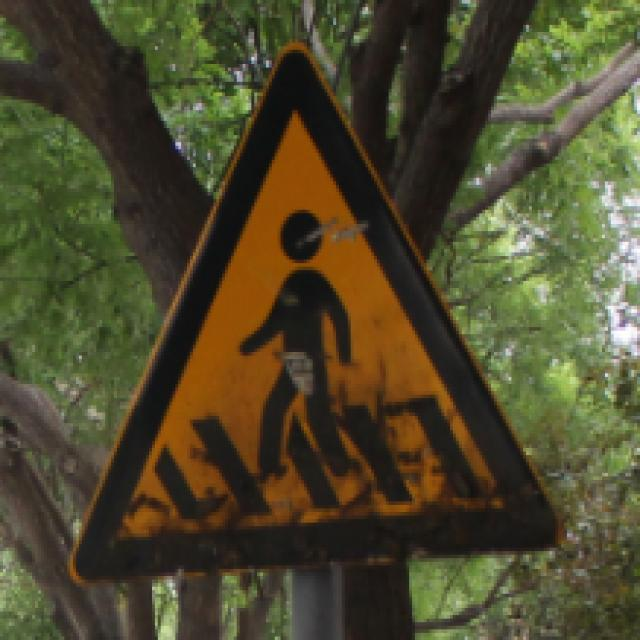Crossing: (83, 46, 563, 554)
